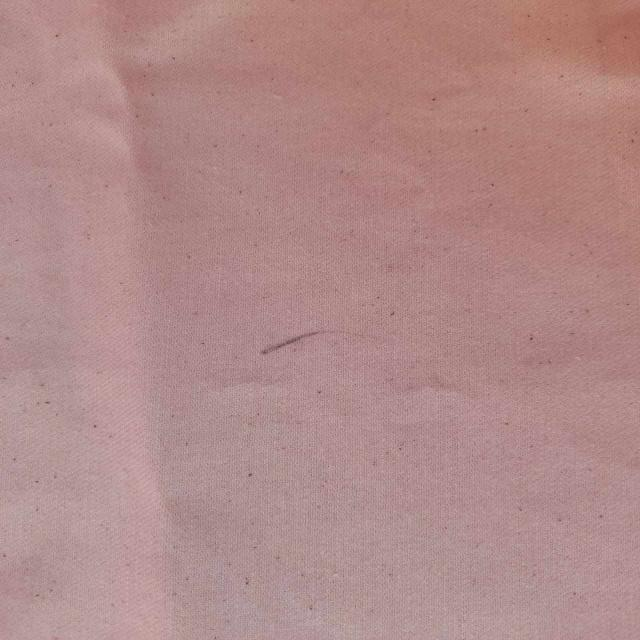taaaches: (251, 318, 340, 370)
